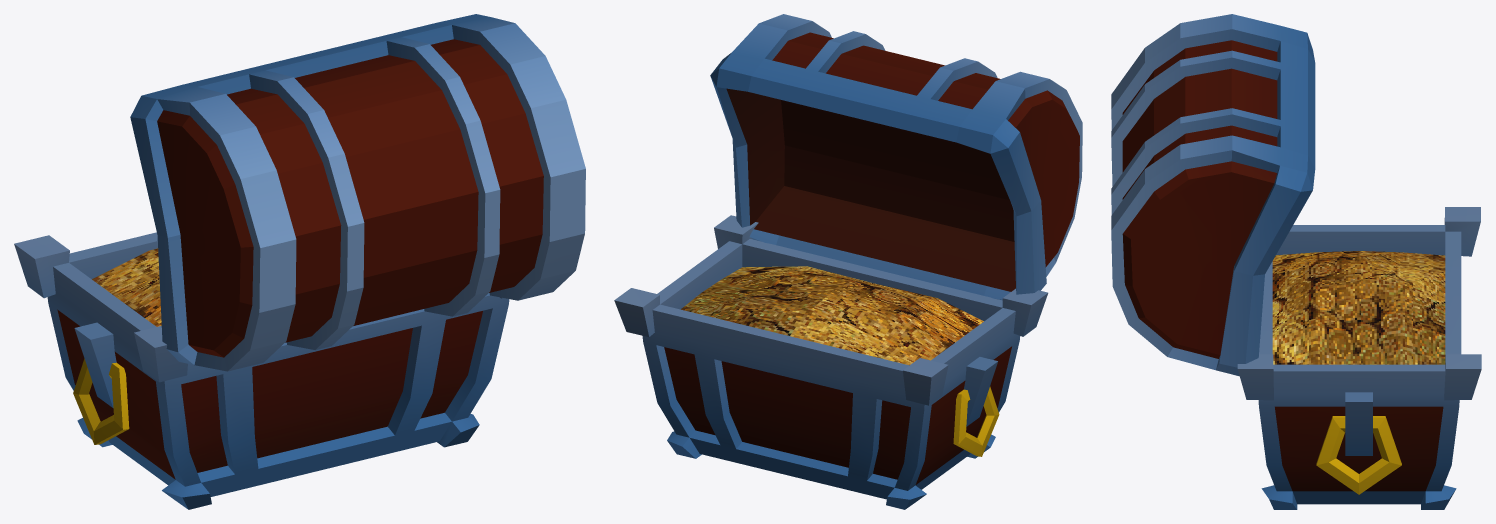
Rendered from Chest.fbx.
The picture shows the model from 3 angles, left to right: view 1: azimuth 30°, elevation 25°; view 2: azimuth 150°, elevation 25°; view 3: azimuth 270°, elevation 25°; orthographic projection. The views are drawn at different scales.
Parts seen in each view (by area): view 1: chest; view 2: chest; view 3: chest.
Boxes of the visible parts, x1,y1,x2,y2 form: chest: (14,14,585,509); chest: (614,14,1082,509); chest: (1111,14,1481,509).
Size of the model in its own units: 317 by 332 by 302.
2 materials, 1 textured.
